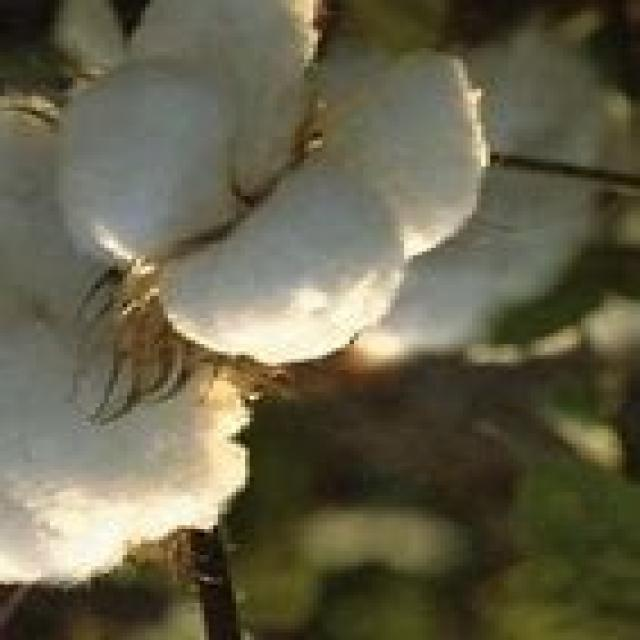Matured Cotton Boll: (48, 0, 488, 376), (0, 118, 268, 591)
